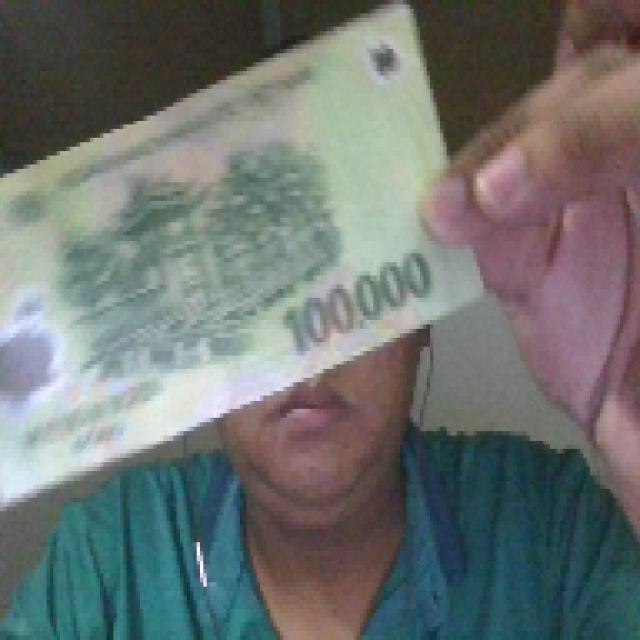100 000 VND: (0, 0, 490, 520)
